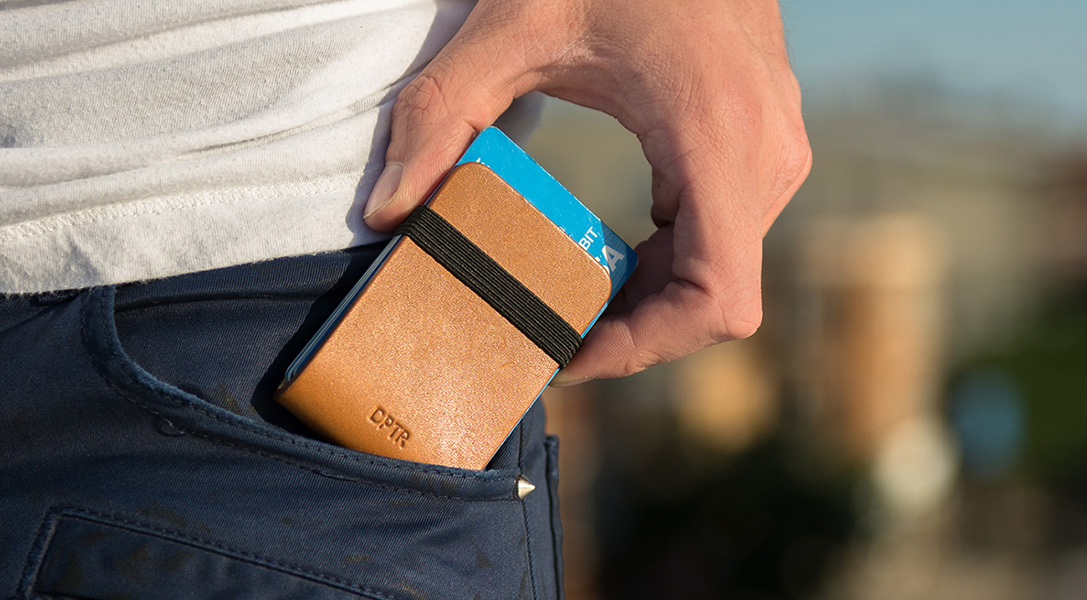monedero: (276, 124, 645, 475)
